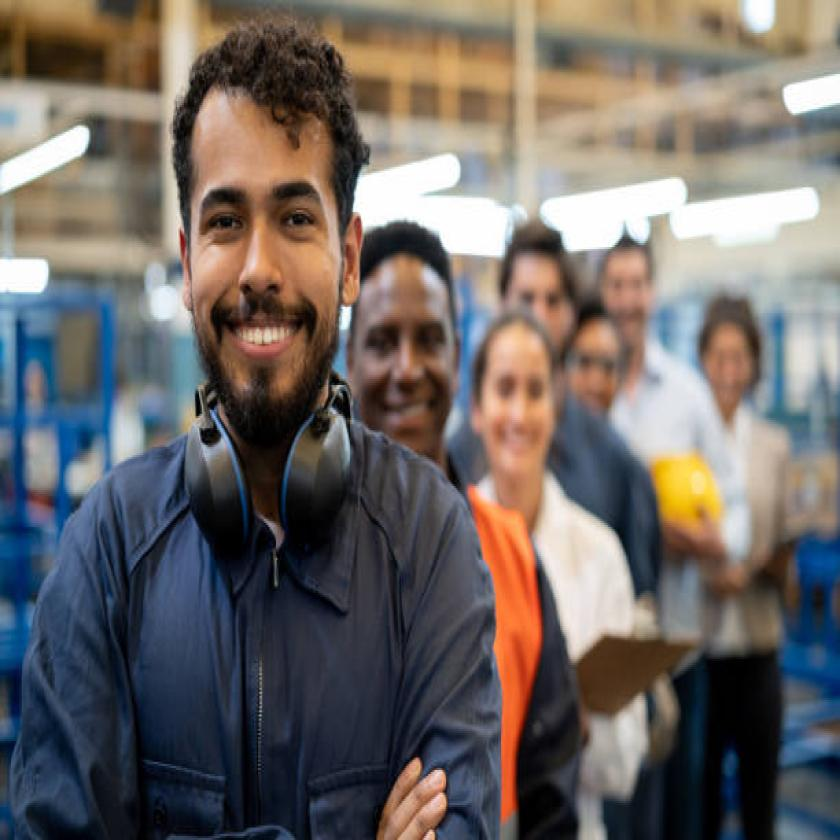Sin_casco: (164, 19, 374, 464), (343, 217, 460, 461), (467, 307, 568, 483)
